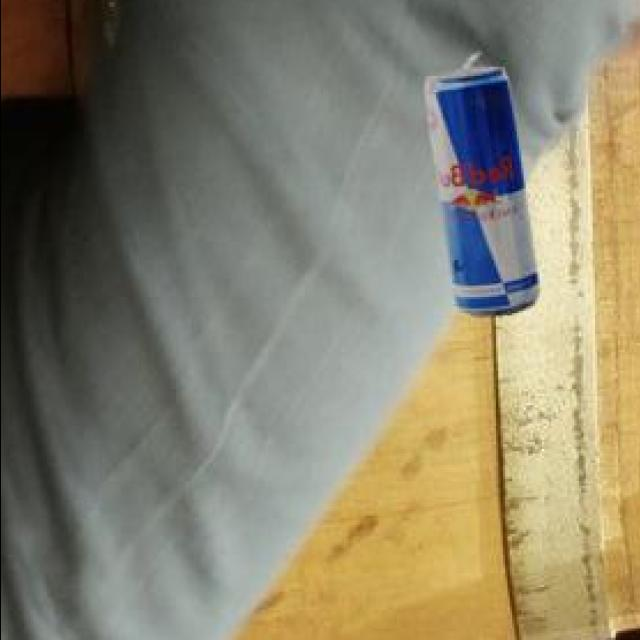logam: (427, 56, 542, 319)
